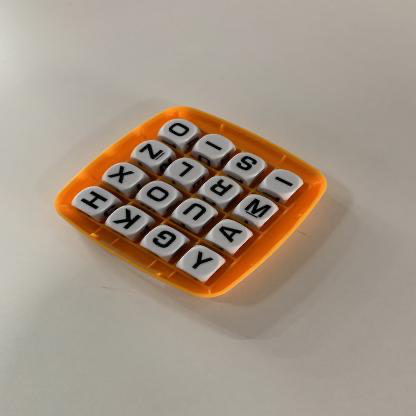a: (213, 223, 249, 248)
g: (146, 227, 186, 256)
h: (76, 188, 114, 216)
i: (267, 171, 302, 194), (198, 135, 231, 158)
k: (110, 207, 148, 234)
l: (170, 159, 205, 183)
m: (238, 197, 276, 223)
o: (141, 183, 178, 208), (164, 120, 198, 141)
r: (204, 177, 240, 202)
s: (231, 153, 264, 178)
u: (177, 200, 213, 227)
x: (107, 164, 144, 189)
y: (183, 248, 220, 276)
z: (136, 141, 173, 166)
